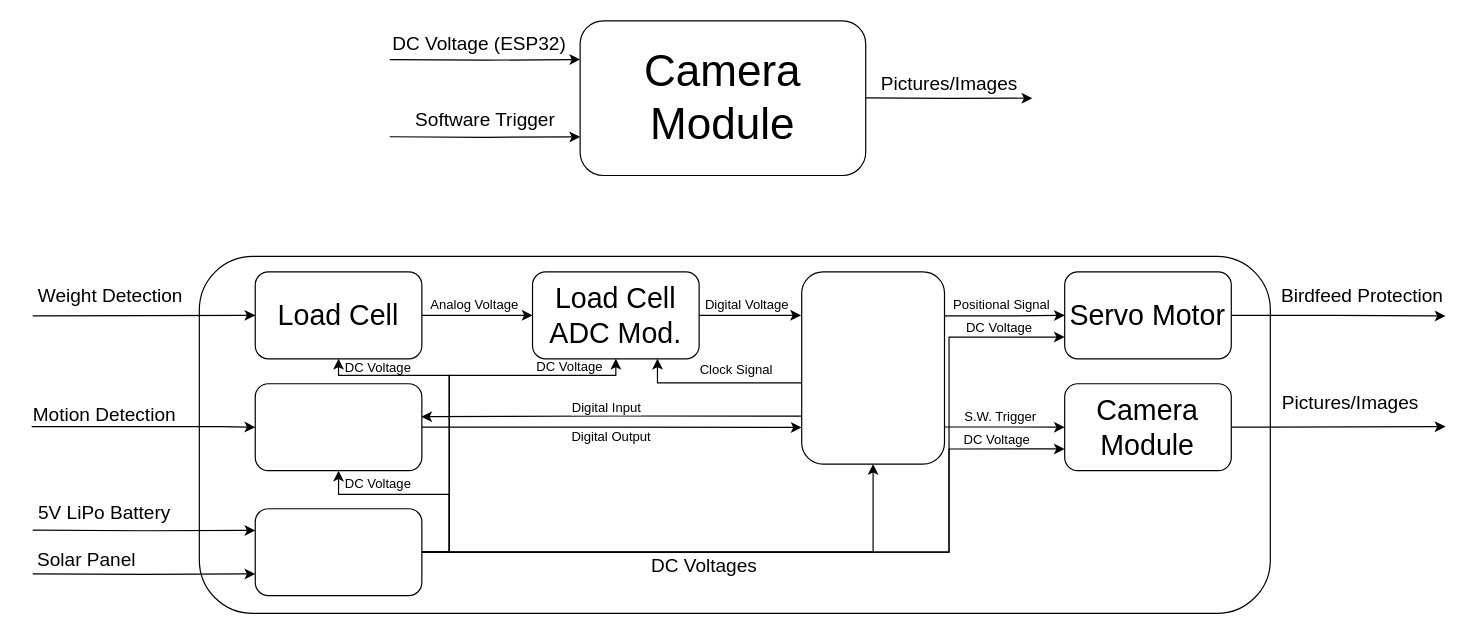
The diagram is 1478 pixels wide and 634 high, and some of its shapes have lost their labels. The shapes that lost their labels are listed below. From the top down, each one's centre as x and y in pixels, then its label:
(x=873, y=367): ESP32 w/ Built-In Camera Module
(x=338, y=427): ToF Sensor & Module
(x=338, y=552): Power Regulator
